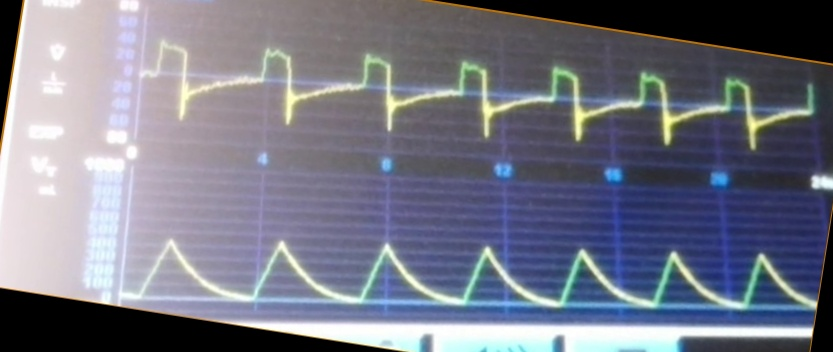Accumulation Flow: (145, 35, 818, 152)
Volume: (131, 220, 816, 310)
